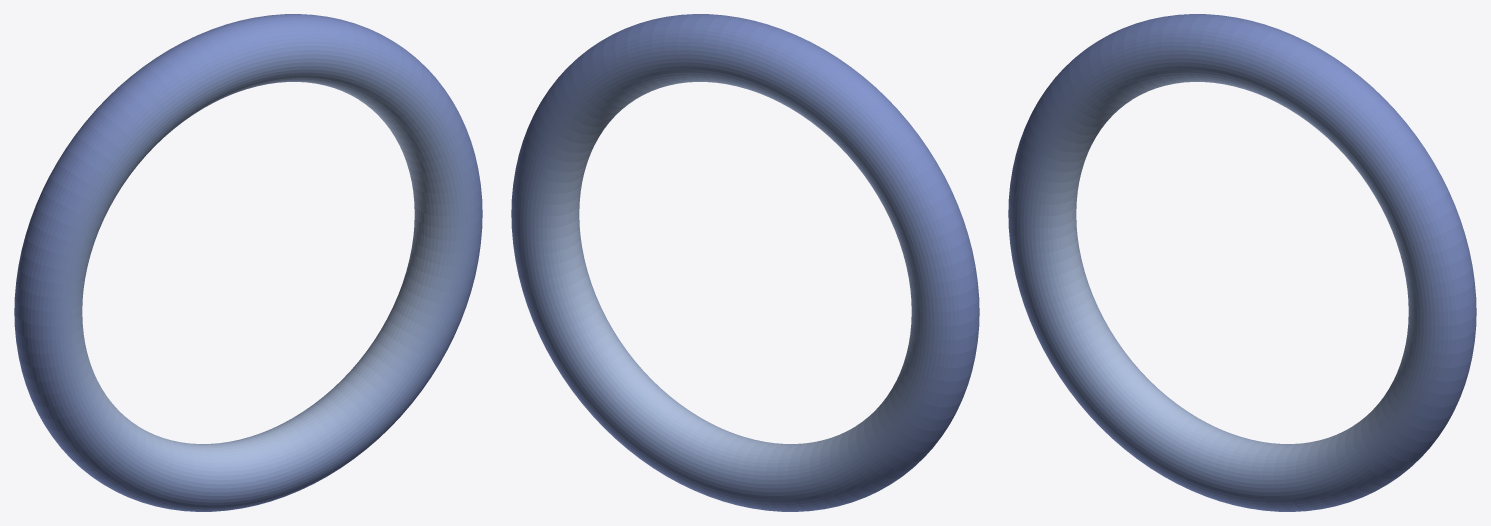
3 views of the same model, side by side, from view 1: azimuth 30°, elevation 25°; view 2: azimuth 150°, elevation 25°; view 3: azimuth 330°, elevation 25° (orthographic).
Visible parts, largest first — view 1: world; view 2: world; view 3: world.
Part boxes in pixels (x1,y1,x2,y2): world: (14, 14, 482, 511); world: (511, 14, 979, 511); world: (1008, 14, 1476, 511).
Bounding box in the file's own units: 26 × 26 × 3.33.
